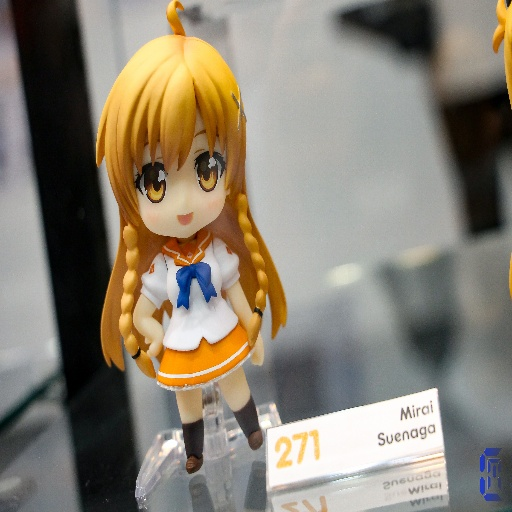hand: (143, 324, 164, 359), (250, 328, 265, 368)
